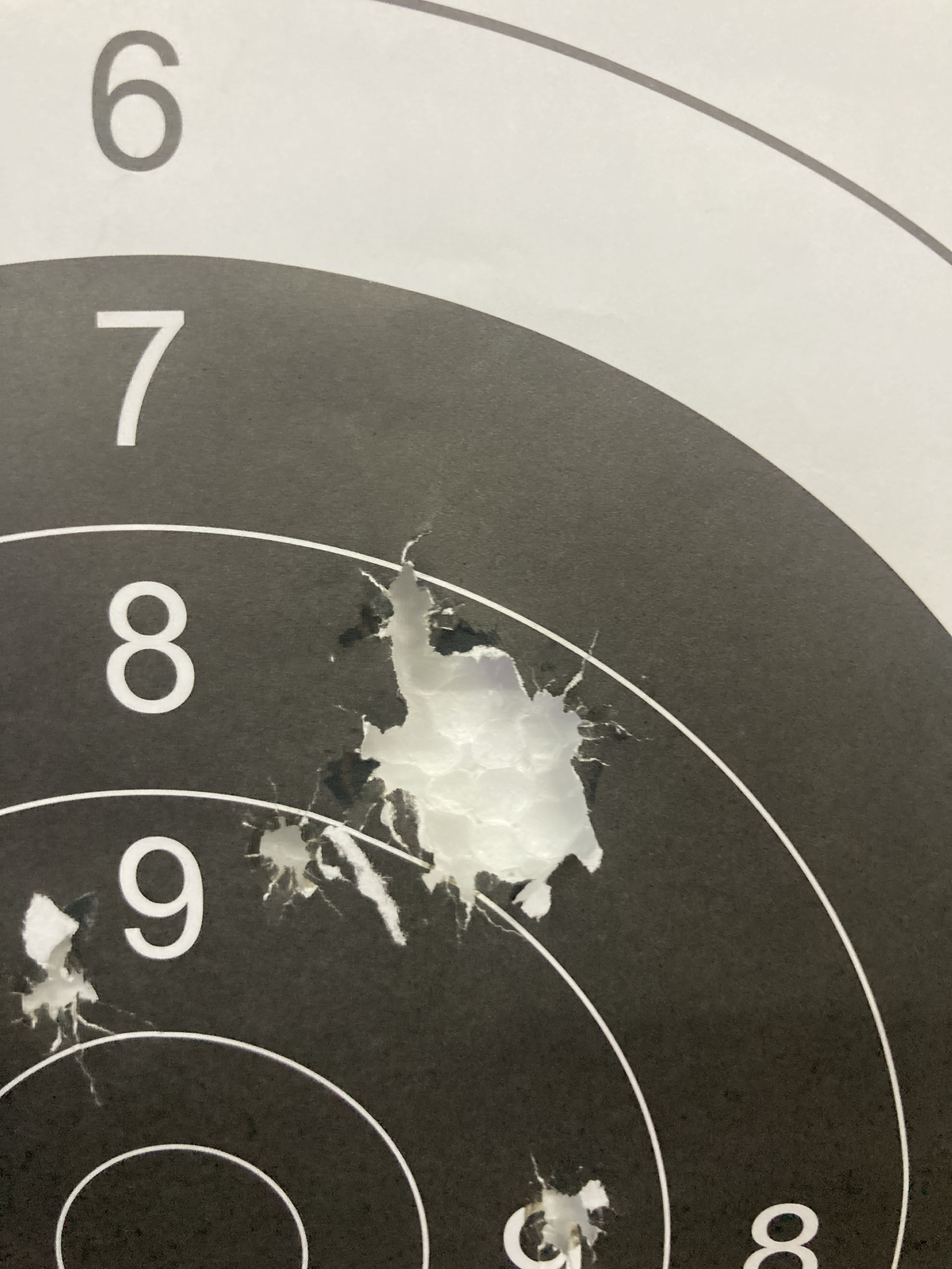hole: (337, 516, 626, 935), (513, 1139, 642, 1269), (0, 928, 126, 1051), (242, 793, 356, 906)
